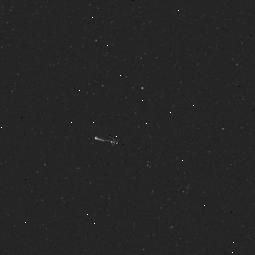debris: (87, 130, 129, 155)
